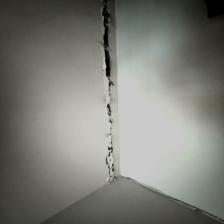Medium: (81, 1, 149, 188)
